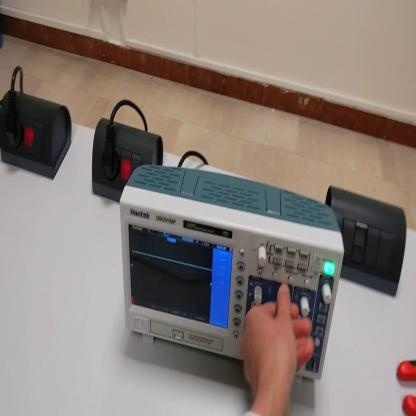hand: (241, 284, 312, 403)
oscilloscope: (119, 166, 344, 386)
pliers: (397, 358, 416, 414)
socket: (1, 85, 76, 181), (89, 118, 165, 204)
